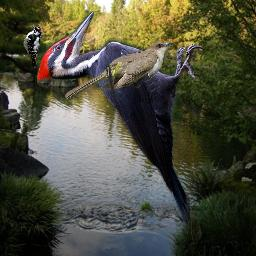Cuckoo: (64, 41, 173, 99)
Woodpecker: (37, 11, 204, 247), (23, 25, 43, 68)
